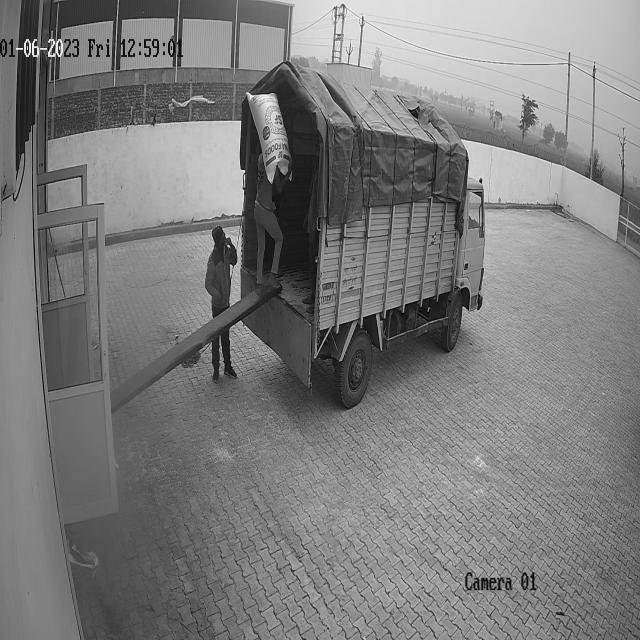sack: (246, 91, 290, 182)
